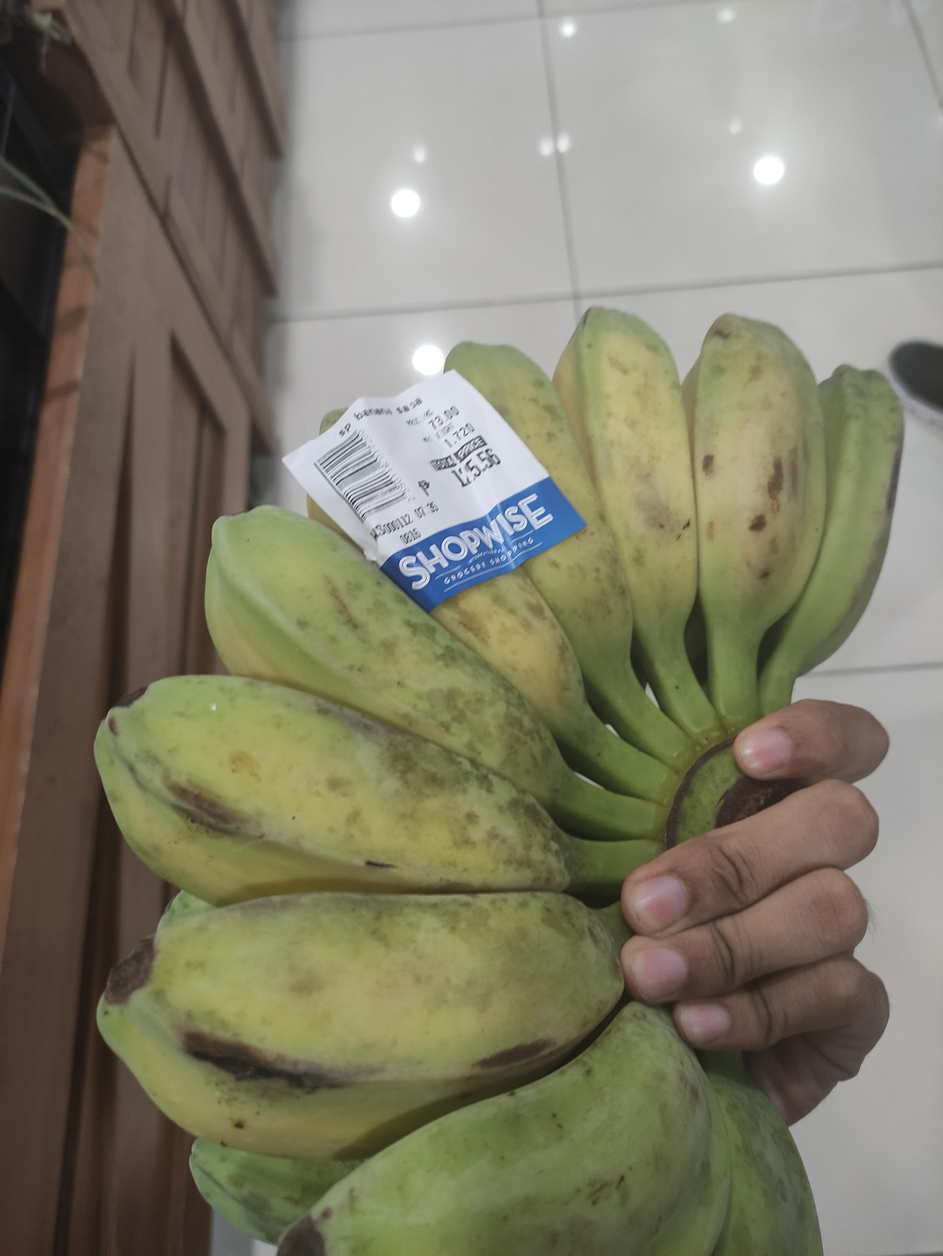underripe: (95, 309, 904, 1256)
